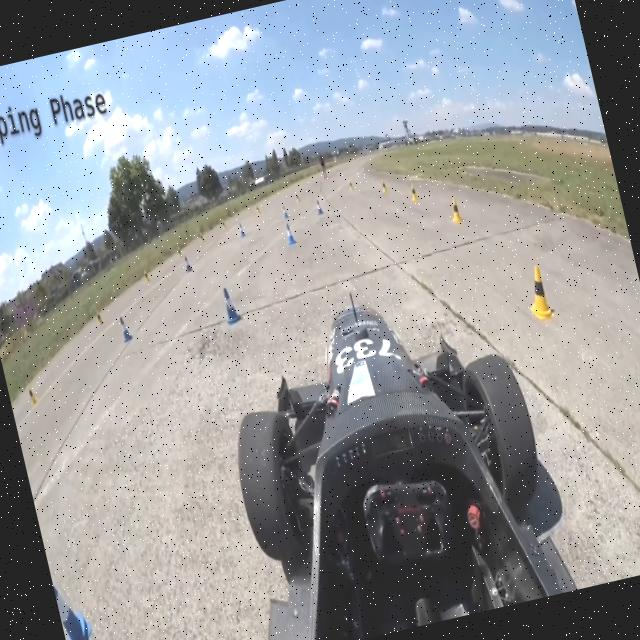blue_cone: (47, 556, 99, 640), (215, 279, 246, 334), (280, 214, 298, 244), (308, 194, 328, 218)
yellow_cone: (518, 261, 556, 328), (445, 192, 466, 222), (402, 178, 420, 204), (378, 172, 389, 198)
